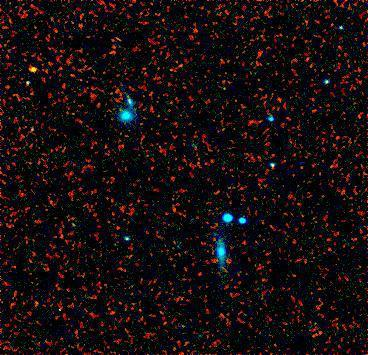star: (17, 55, 47, 85)
